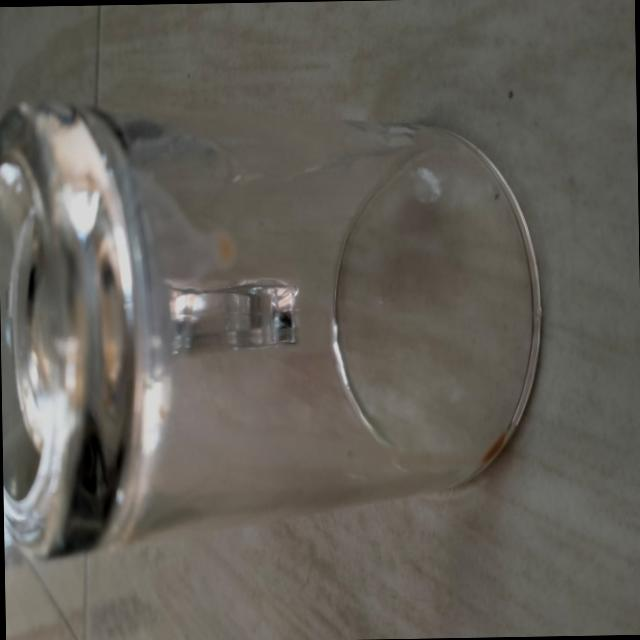glass-VX4N: (0, 88, 540, 559)
